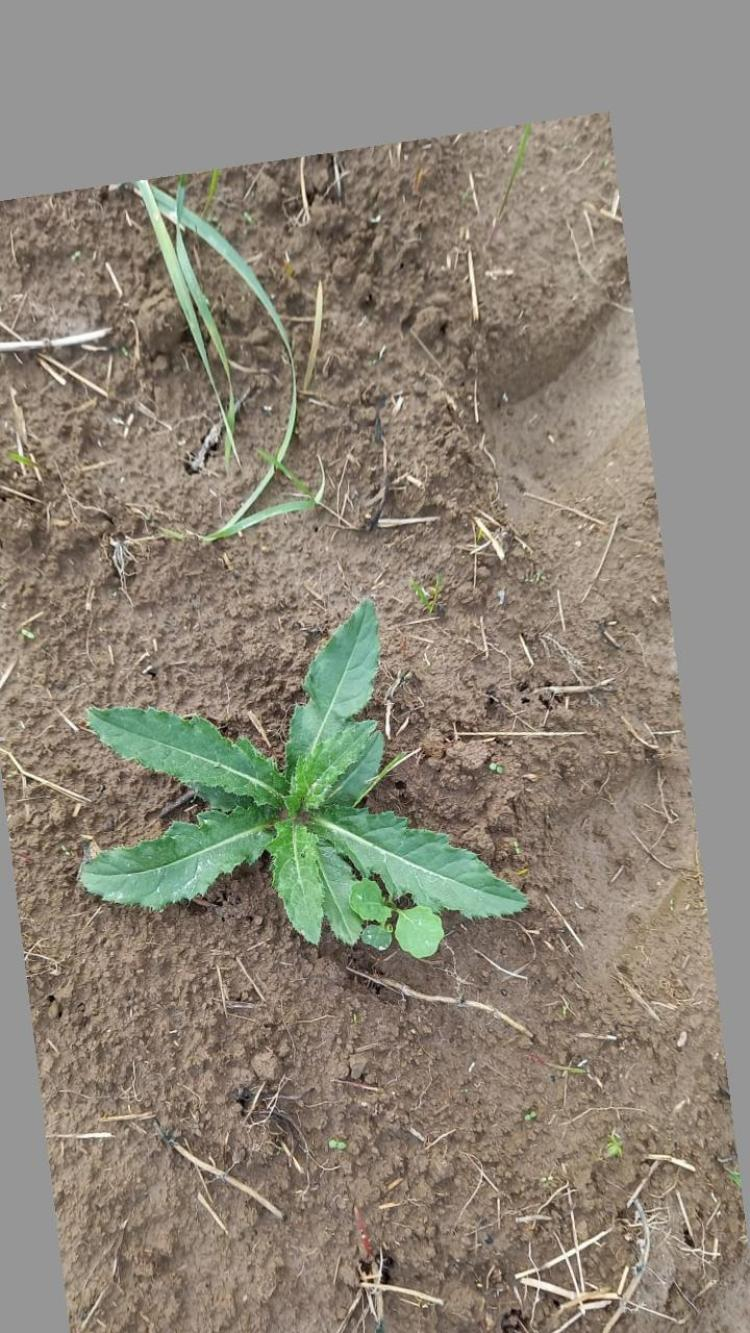osot: (96, 602, 531, 973)
